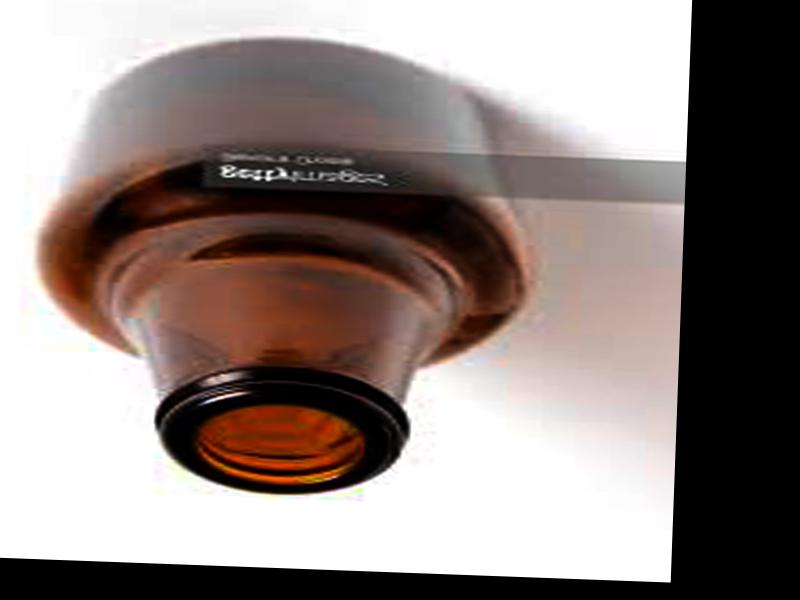Beer: (31, 28, 542, 504)
